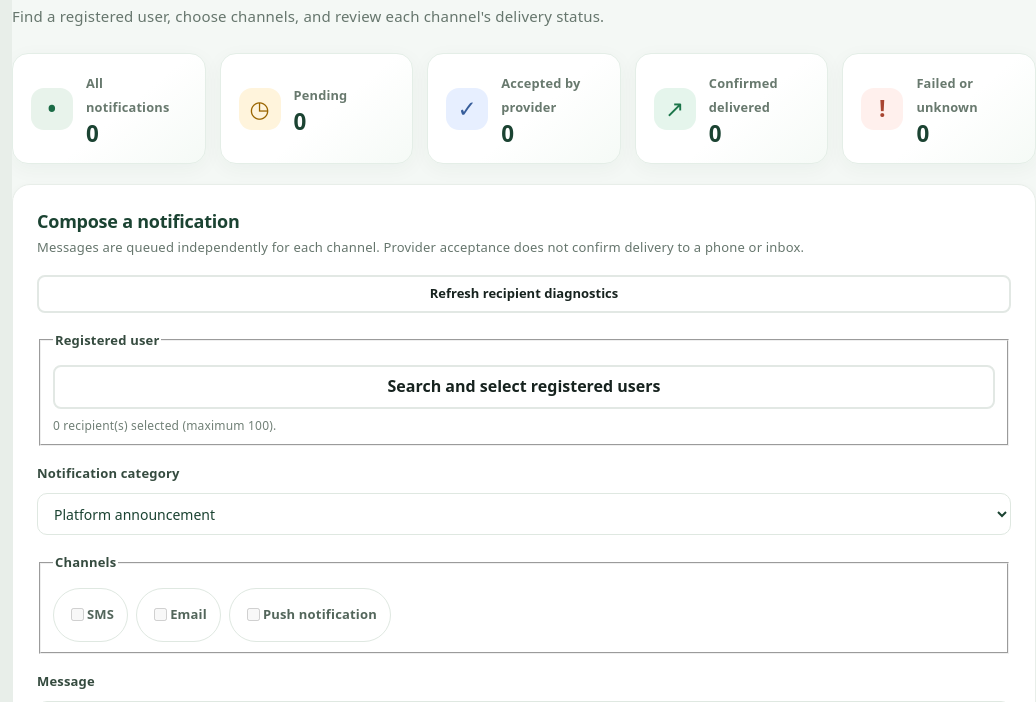
Scenario: admin unified notifications › shows user eligibility separately from exact system and provider configuration blockers
Click the button "Search and select registered users": (524, 387) [53,365,995,408]
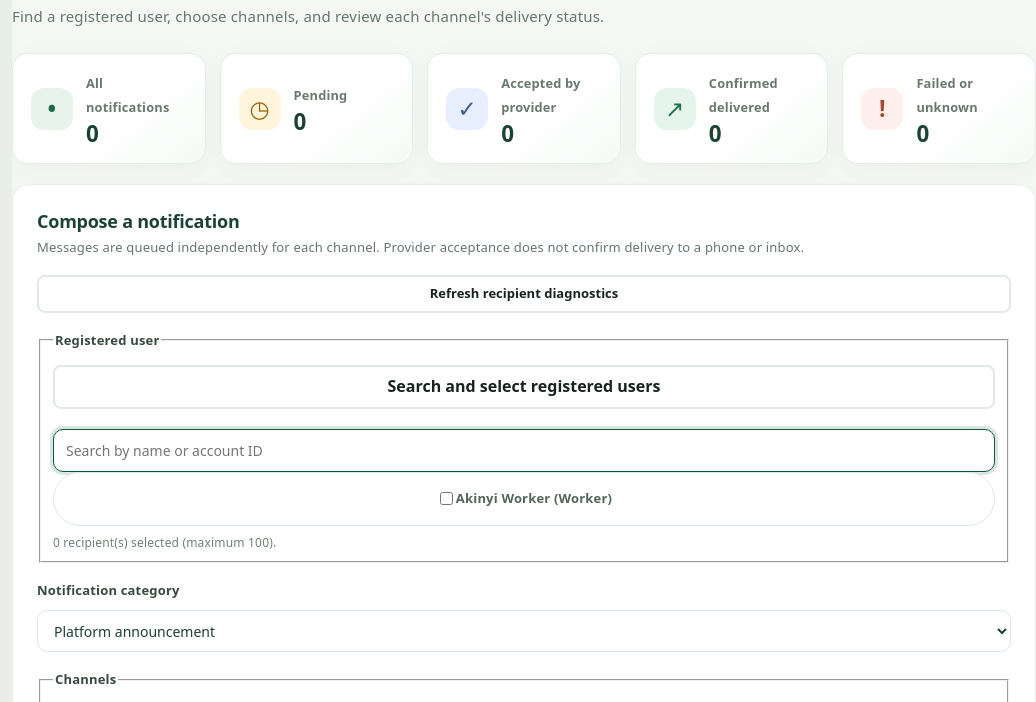
Click the checkbox labelled "Akinyi Worker (Worker)": (446, 499) [440,492,453,505]
(page scrolled)
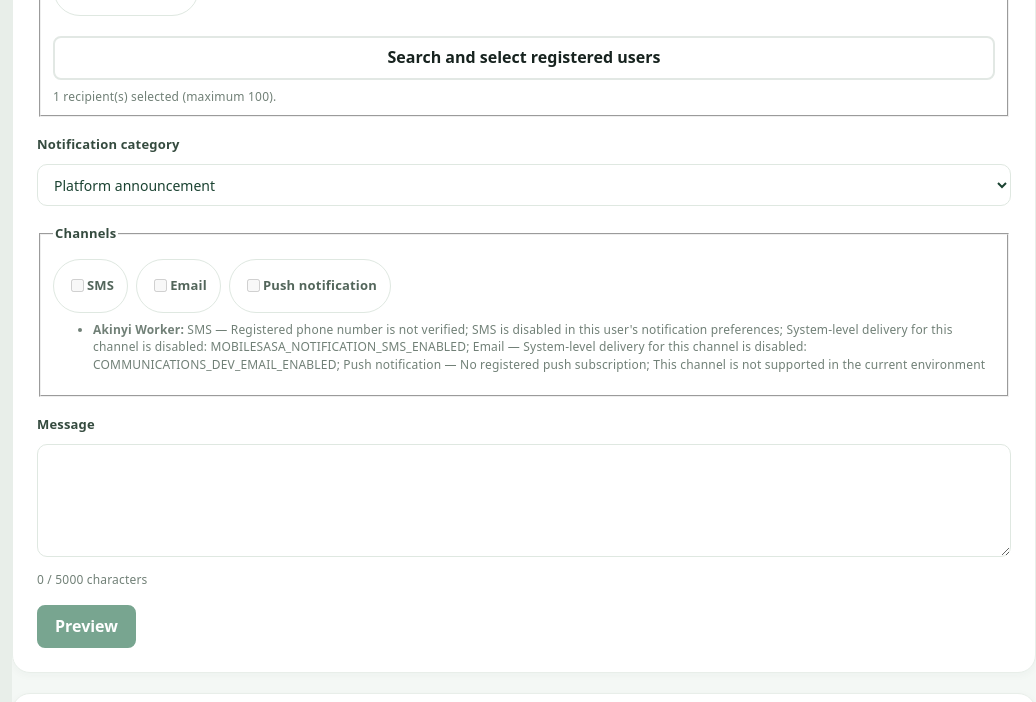
Expected: the list named "Selected recipient channel availability" shows "Registered phone number is not verified", [93,321,953,355]
Expected: the list named "Selected recipient channel availability" shows "MOBILESASA_NOTIFICATION_SMS_ENABLED", [93,321,953,355]
Expected: the list named "Selected recipient channel availability" shows "System-level delivery for this channel is disabled", [93,321,953,355]
